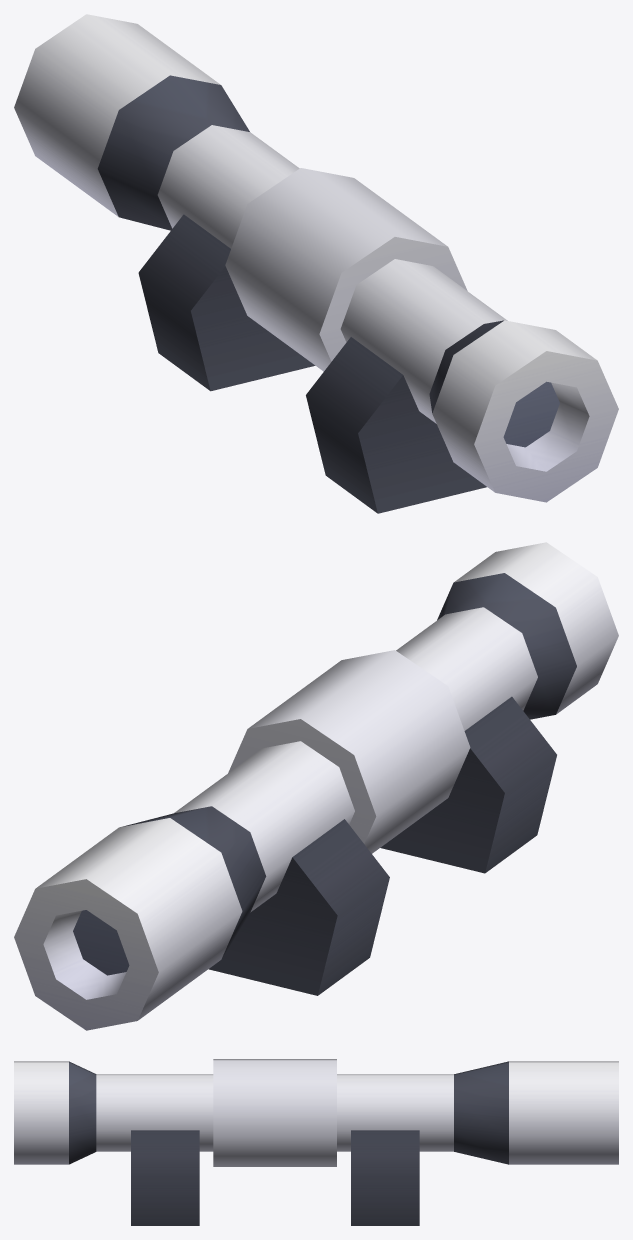
File: scope-large-b.glb
The picture shows the model from 3 angles, top to bottom: view 1: azimuth 30°, elevation 25°; view 2: azimuth 150°, elevation 25°; view 3: azimuth 270°, elevation 25°; orthographic projection. The views are drawn at different scales.
Parts seen in each view (by area): view 1: scope-large-b; view 2: scope-large-b; view 3: scope-large-b.
Part boxes in pixels (x1,y1,x2,y2): scope-large-b: [14, 14, 618, 513]; scope-large-b: [14, 542, 618, 1030]; scope-large-b: [14, 1059, 618, 1225].
Bounding box in the file's own units: 0.11 × 0.1117 × 0.44.
Materials: 1 (1 with a texture image).
